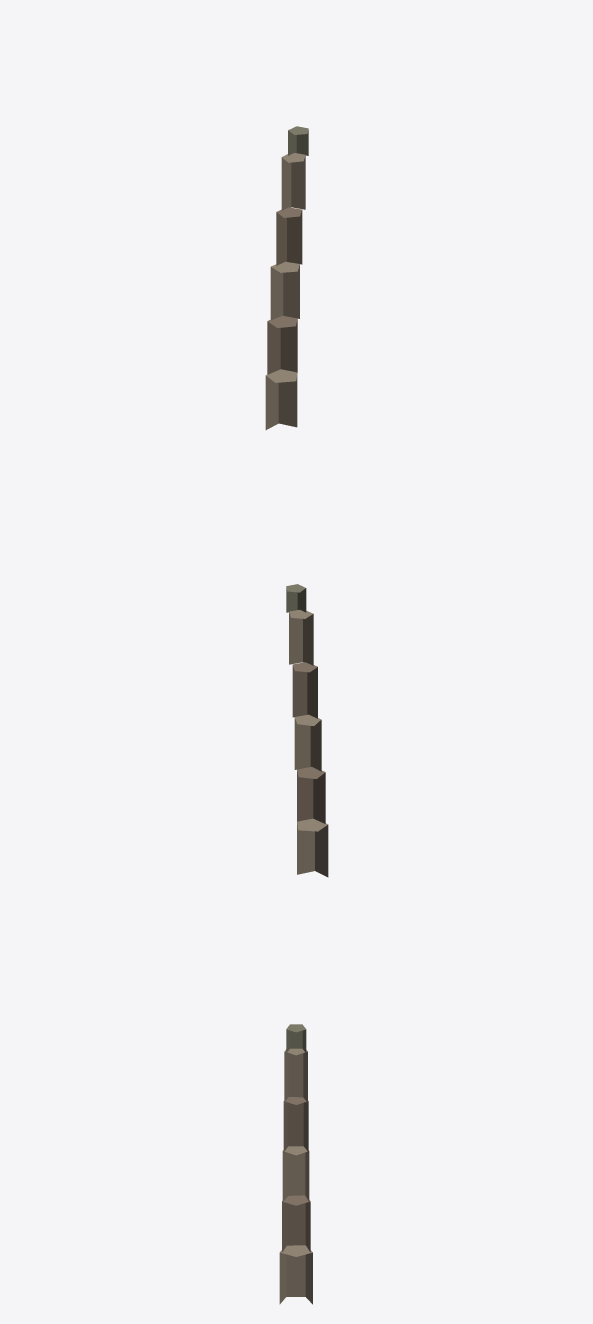
The model's file is shrub.trop.palm_understory__winter.glb.
3 views of the same model, one above another, from view 1: azimuth 30°, elevation 25°; view 2: azimuth 150°, elevation 25°; view 3: azimuth 270°, elevation 25° (orthographic). The views are drawn at different scales.
Parts seen in each view (by area): view 1: shrub.trop.palm_understory__winter; view 2: shrub.trop.palm_understory__winter; view 3: shrub.trop.palm_understory__winter.
Boxes of the visible parts, bbox=[...] form: shrub.trop.palm_understory__winter: bbox=[265, 126, 308, 429]; shrub.trop.palm_understory__winter: bbox=[286, 584, 328, 877]; shrub.trop.palm_understory__winter: bbox=[279, 1024, 312, 1304].
Size of the model in its own units: 4.87 by 2.83 by 4.93.
